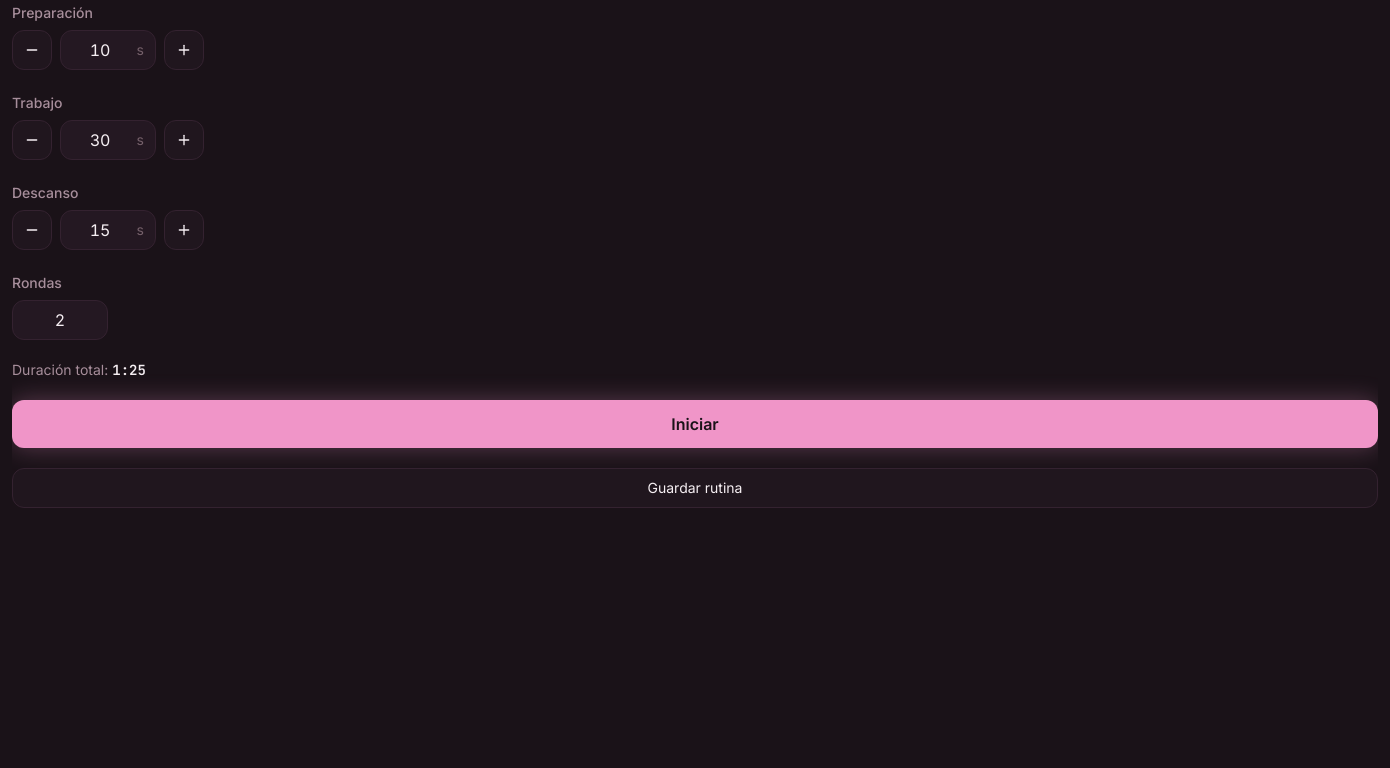
Scenario: ClasicoConfigScreen — validación bloquea el inicio (spec timer-modes) › trabajo = -5 muestra el mensaje español «El trabajo debe durar al menos 1 segundo» y no inicia
Replace the text in the field labelled "Trabajo" with "-5": (108, 140) [60,120,156,160]
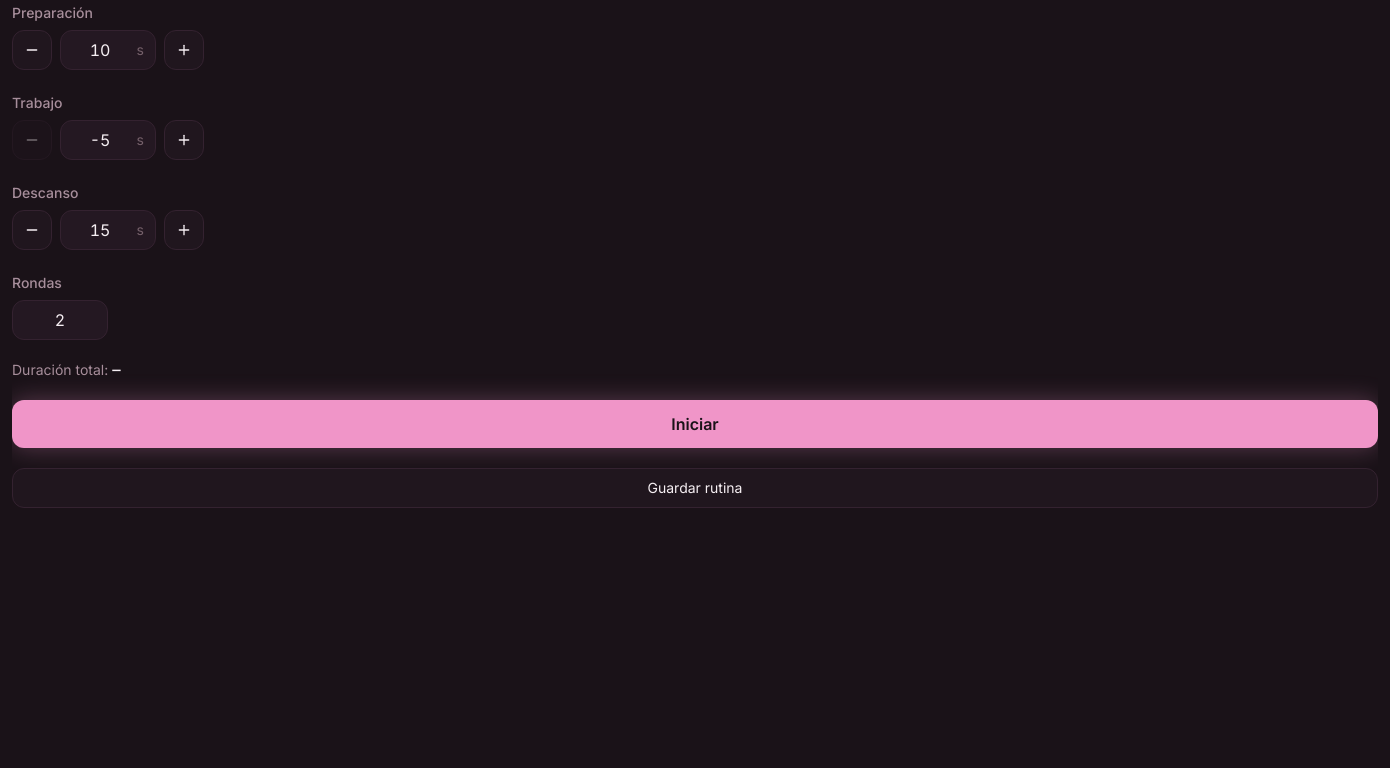
Click the button "Iniciar": (695, 424) [12,400,1378,448]
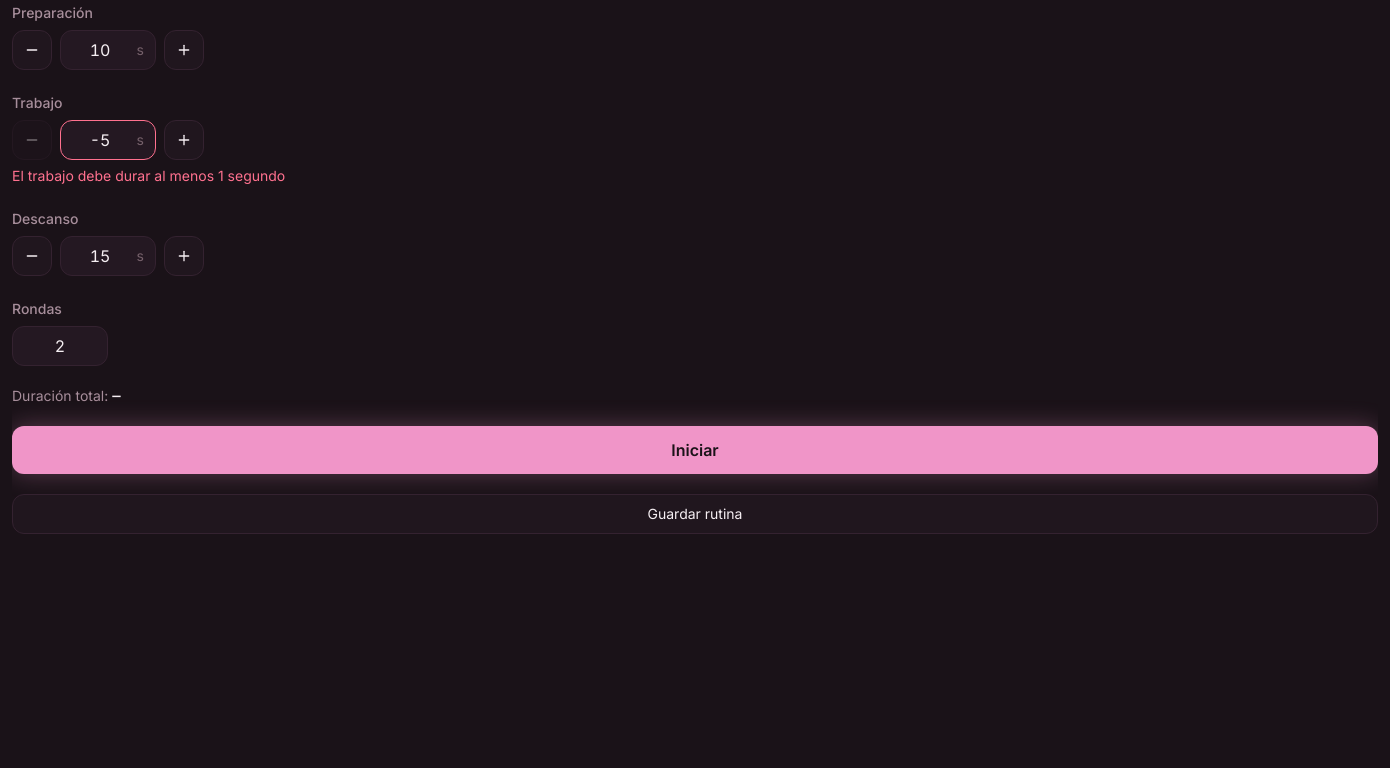
Result: the text "El trabajo debe durar al menos 1 segundo" is shown at [12,167,285,184]
